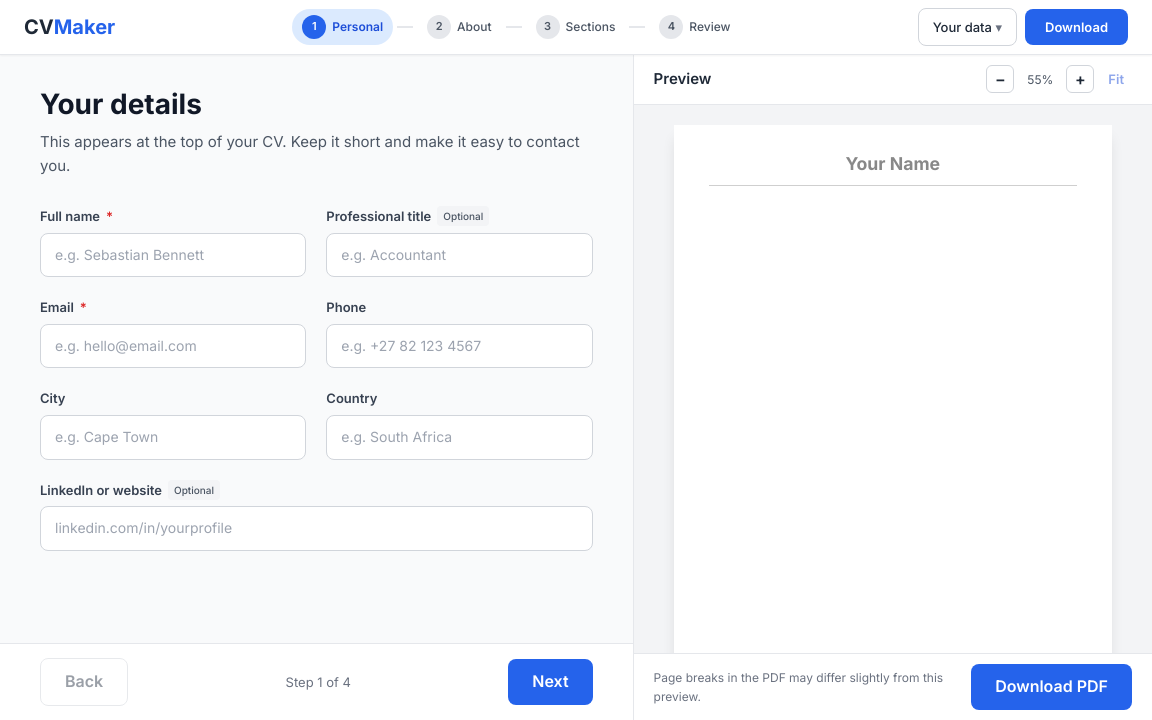
it: App › shows an email error only after leaving the field
Step 1. Type "ada@" into the field labelled "Email *" → (173, 346), box x1=40 y1=324 x2=306 y2=368
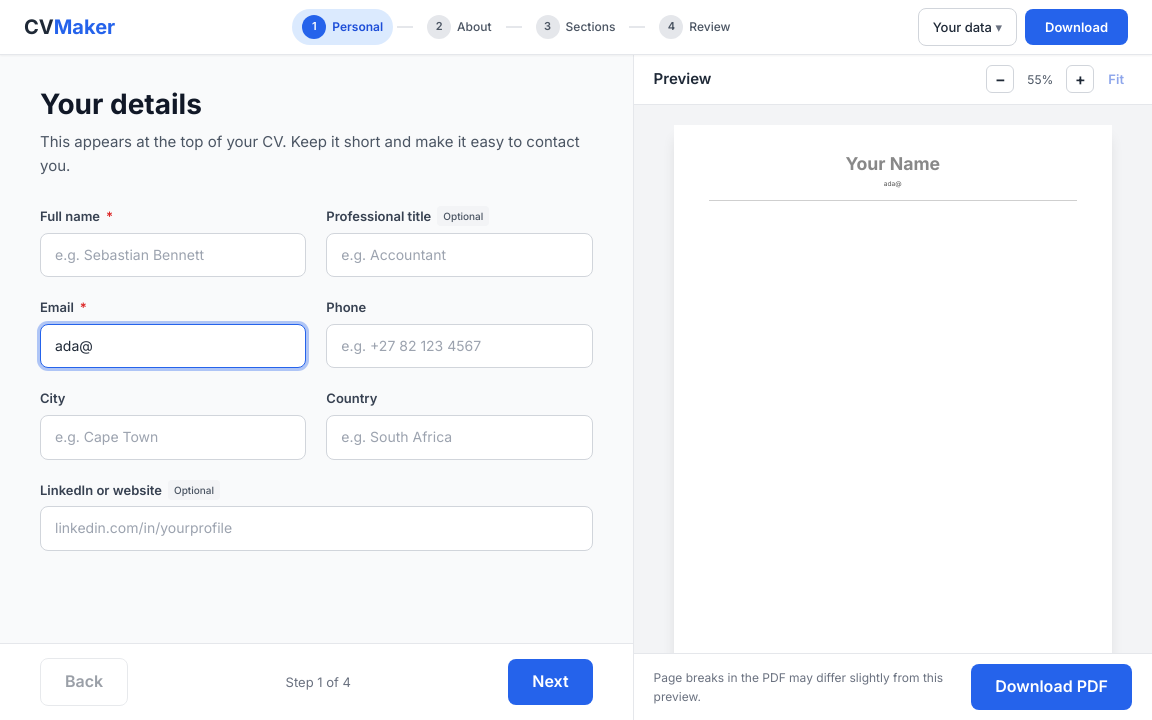
Expected: the text "looks incomplete" is not shown
Step 2. Press Tab
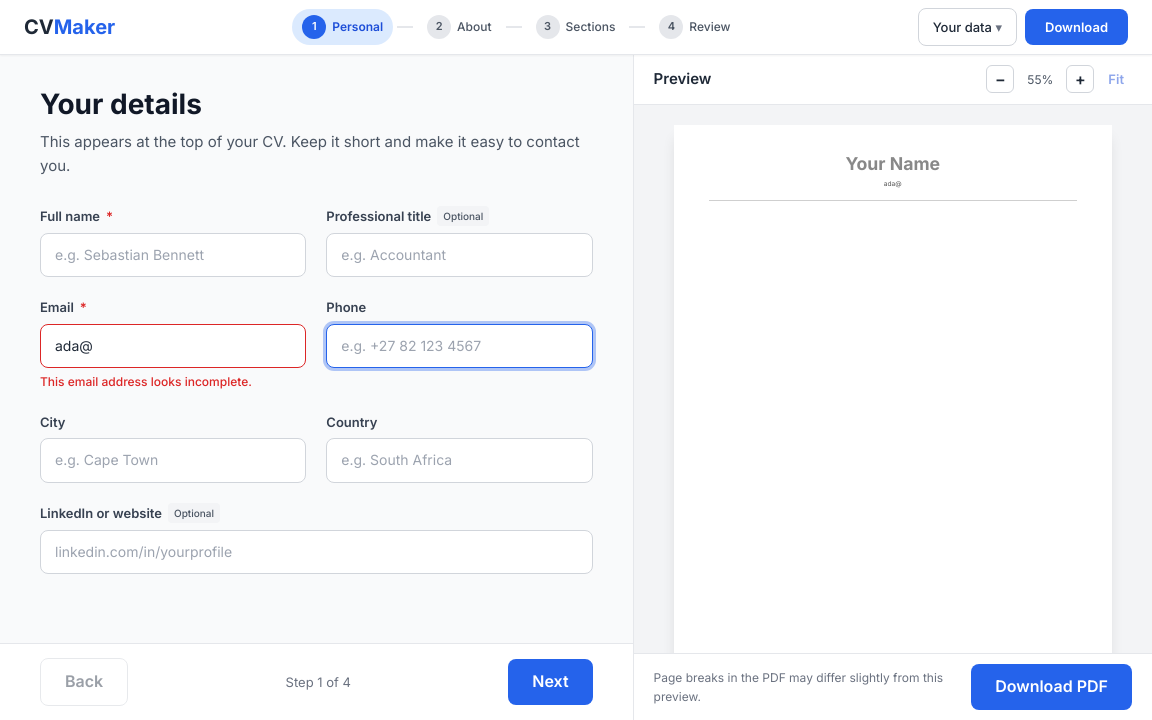
Now the text "This email address looks incomplete." is shown, box x1=40 y1=374 x2=252 y2=389
